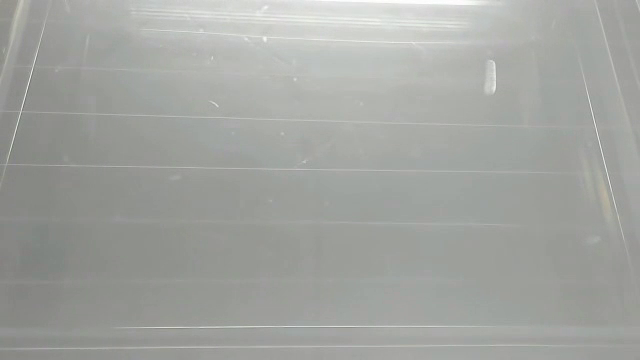alpha: (479, 53, 501, 99), (581, 230, 608, 248)
